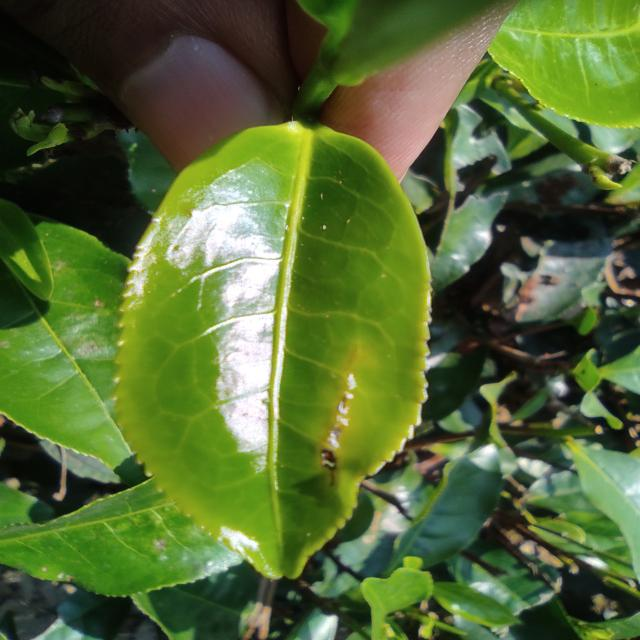Category C(4-7 days): (88, 82, 466, 592)
